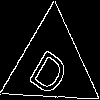D: (26, 40, 76, 99)
